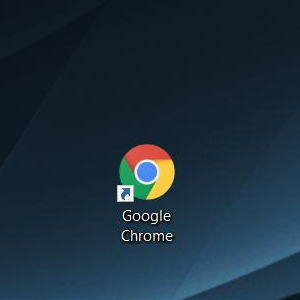chrome: (116, 143, 175, 202)
